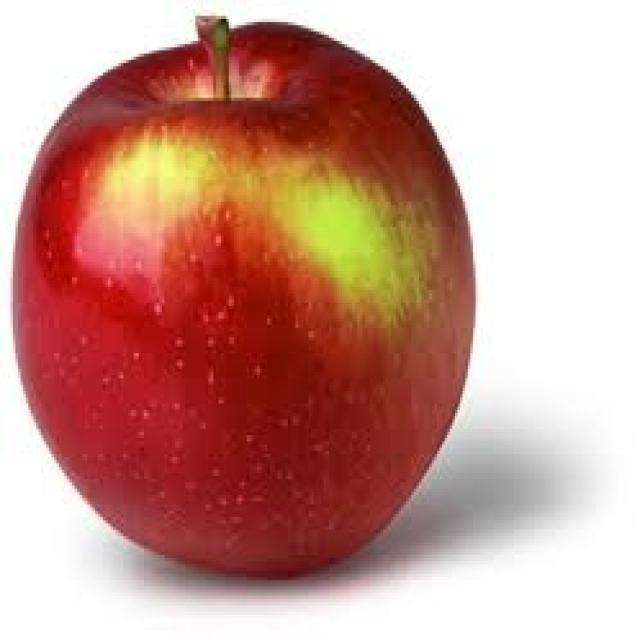Apple: (8, 6, 496, 590)
